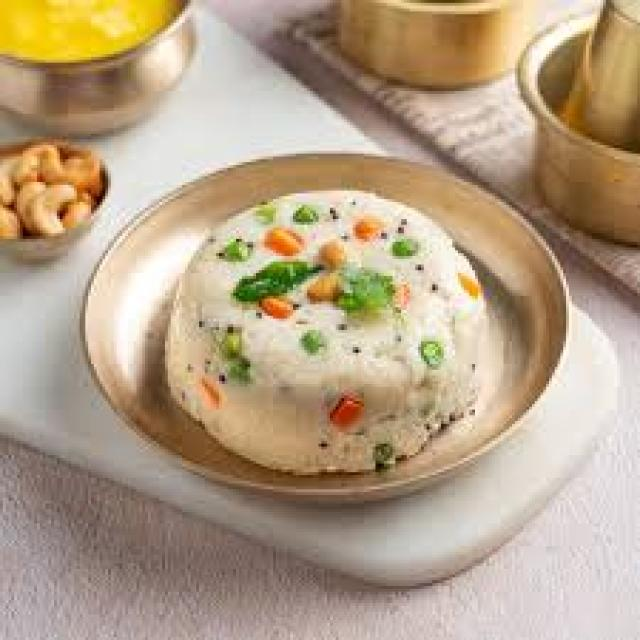UPMA: (159, 191, 486, 472)
